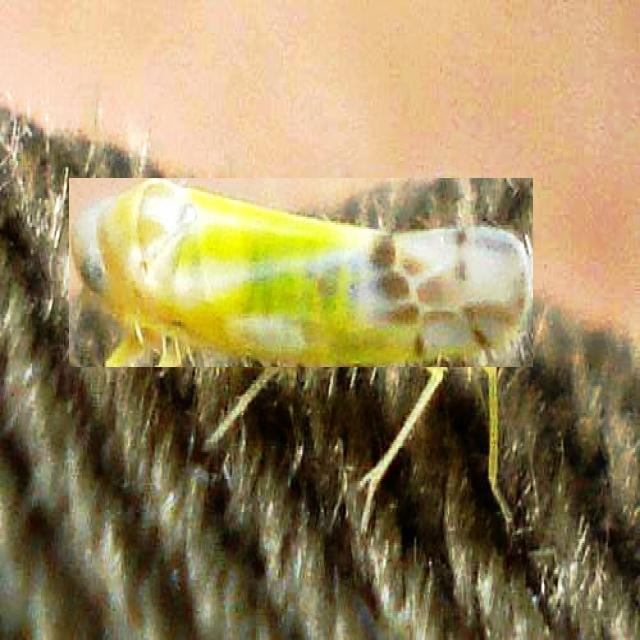green-leafhopper: (69, 178, 533, 367)
